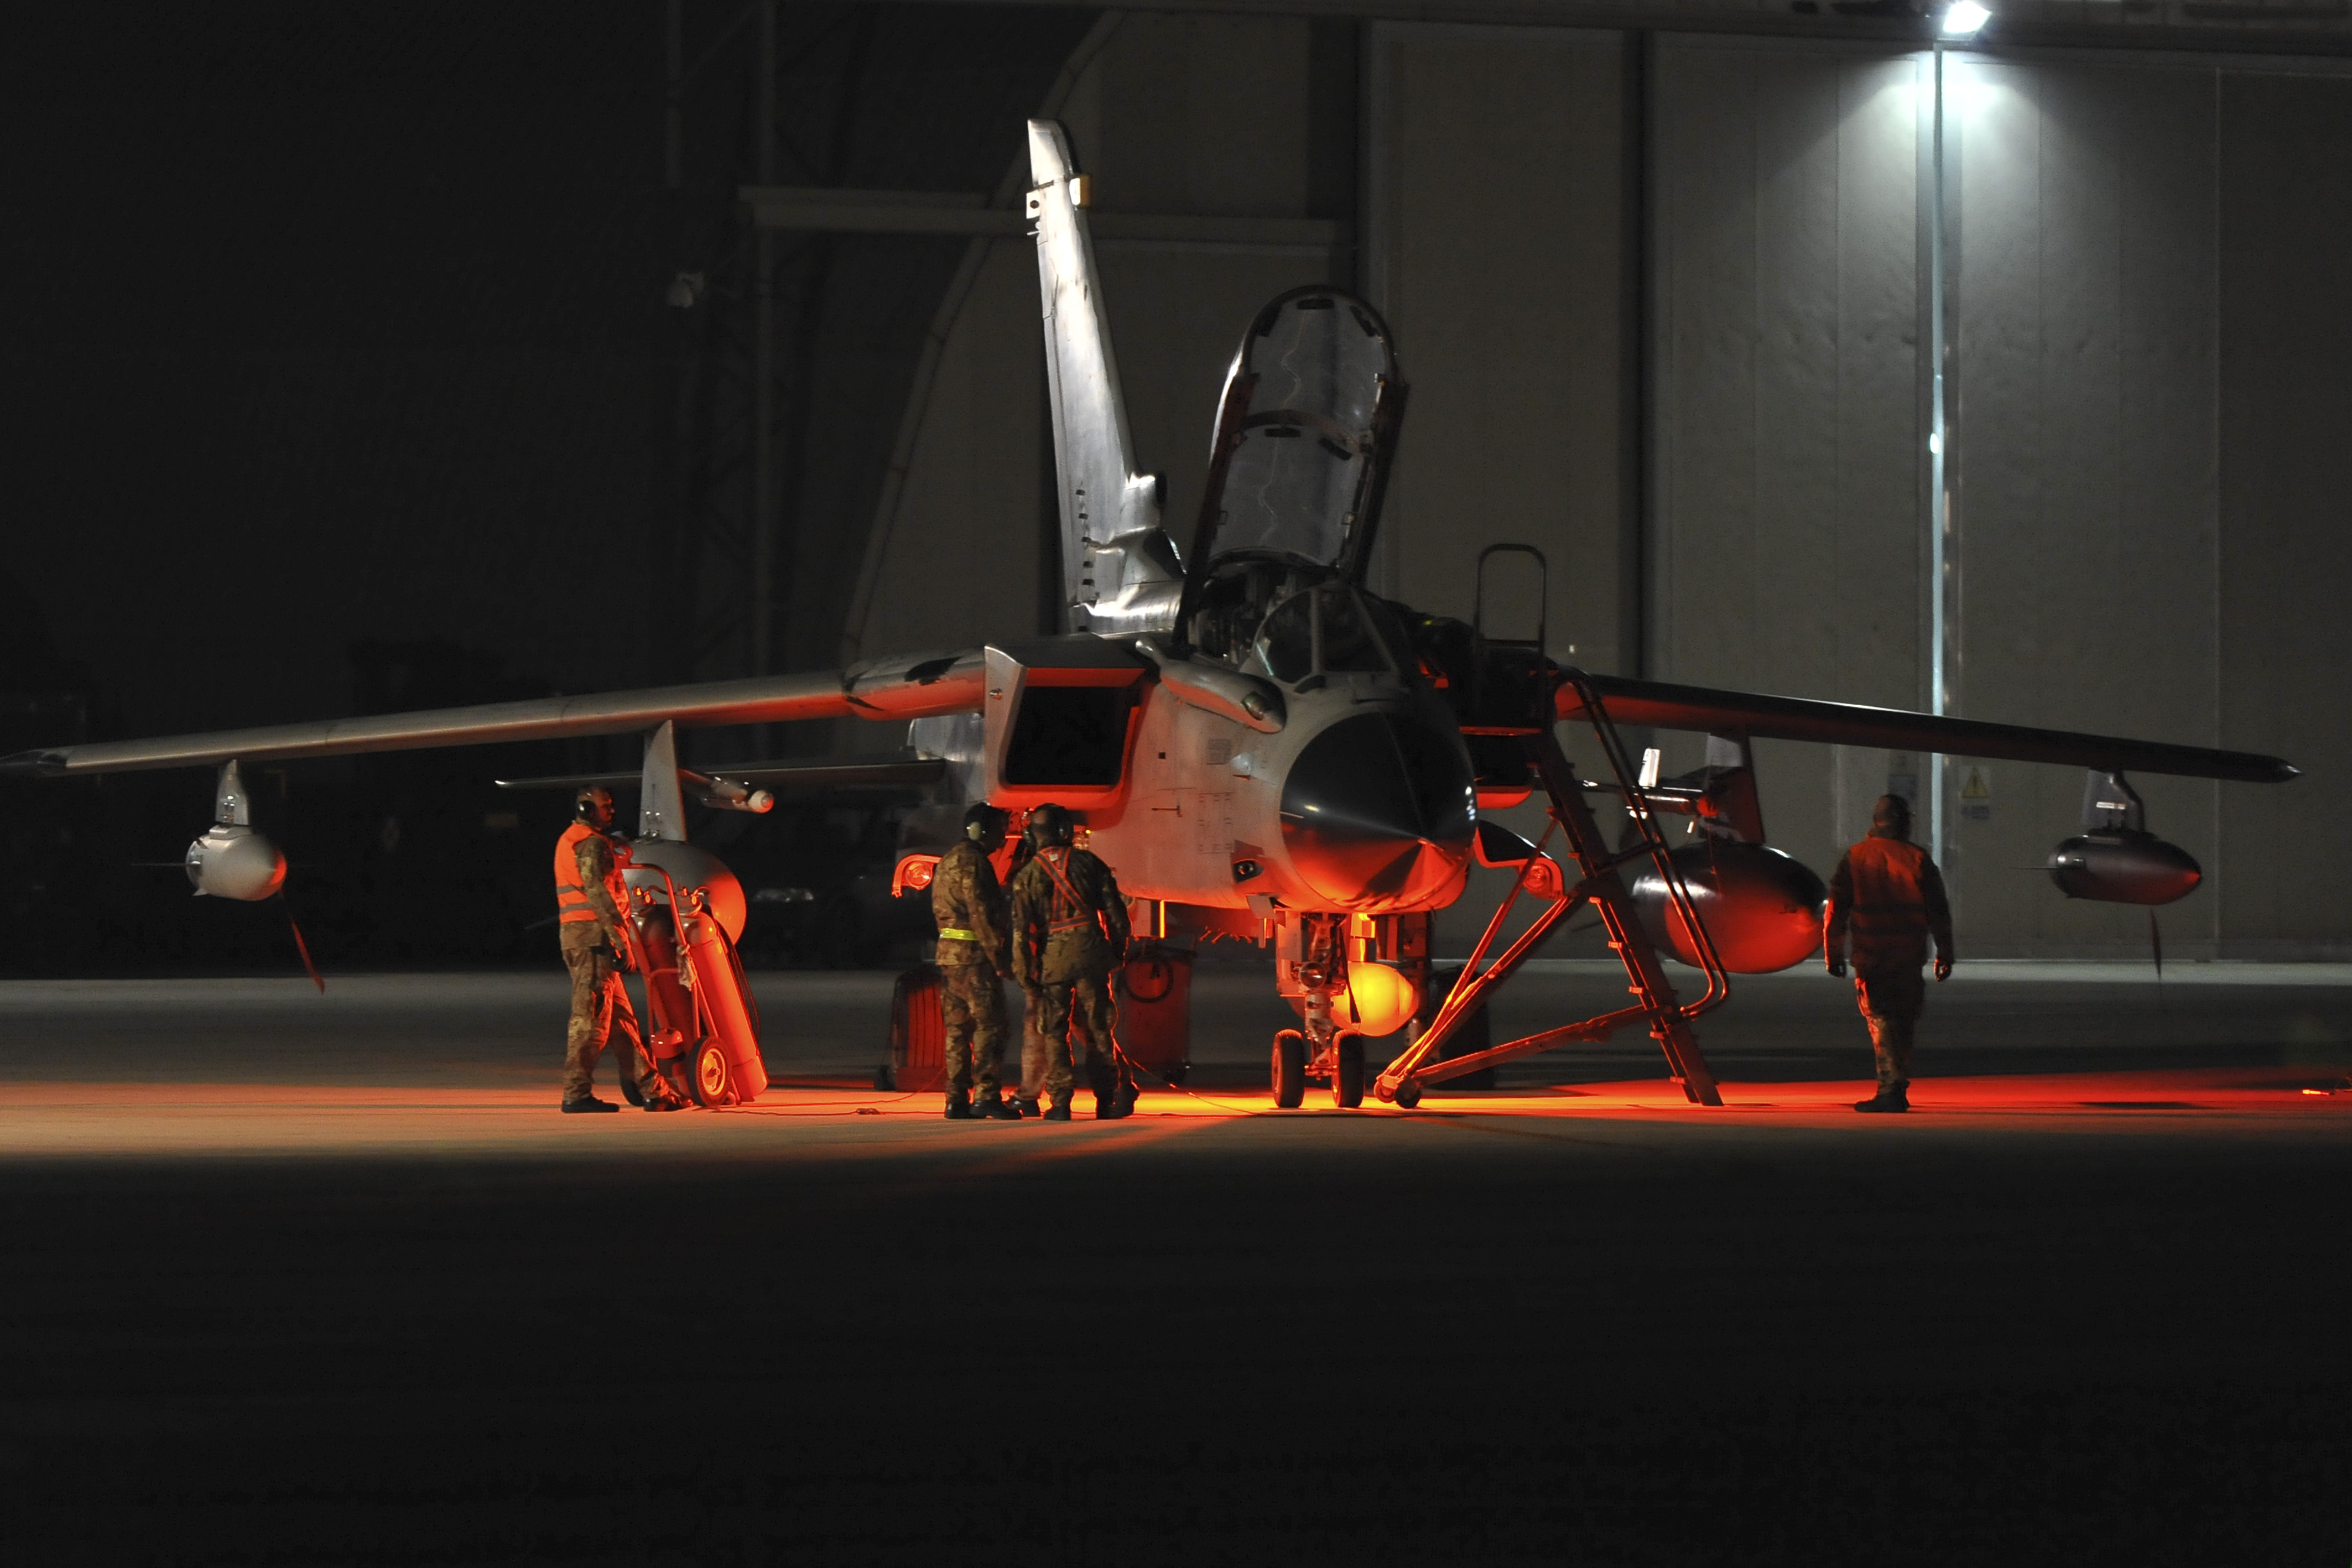Tornado: (0, 117, 2303, 1109)
